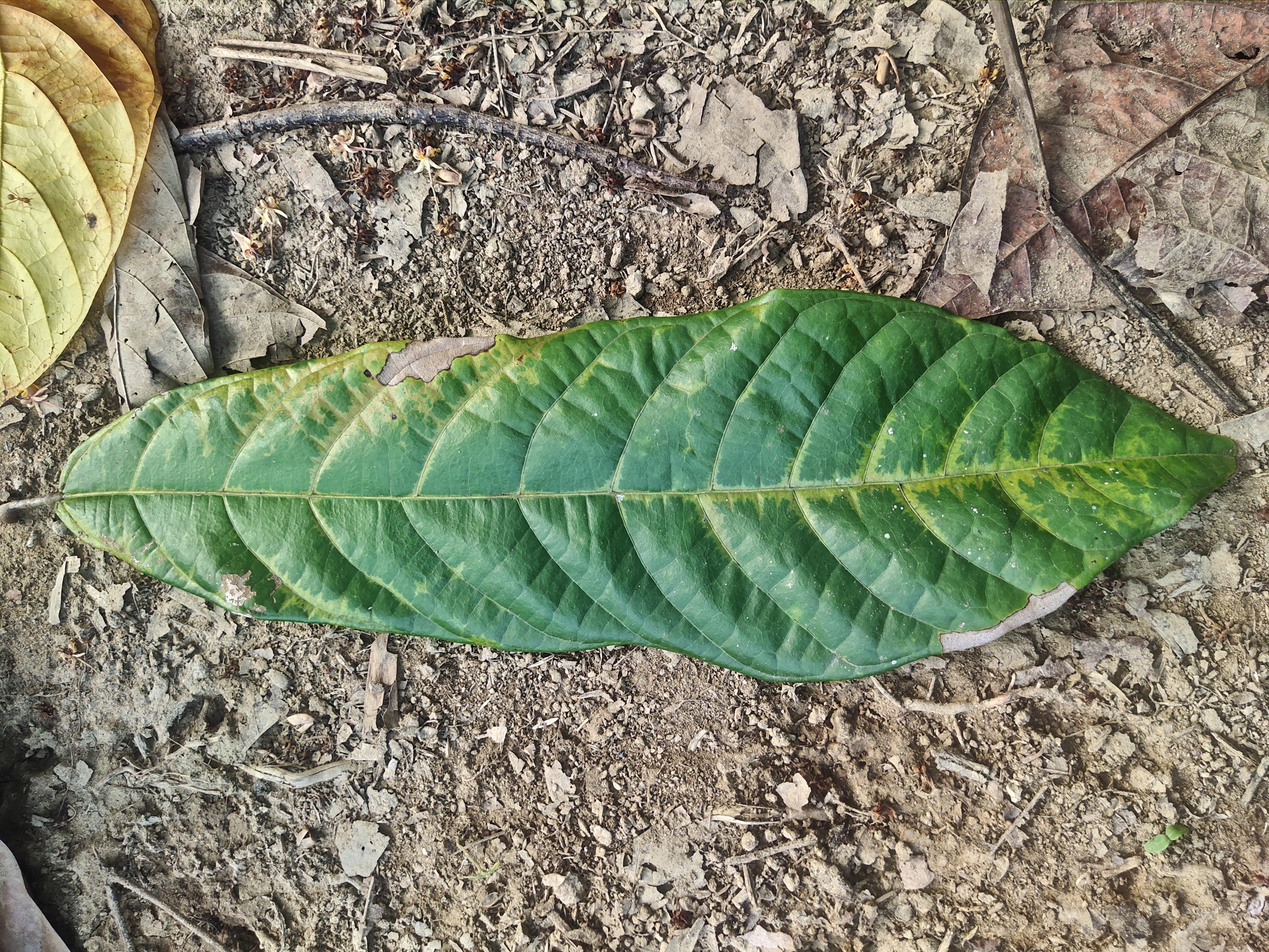deficiencia_potasio: (51, 298, 1234, 676)
